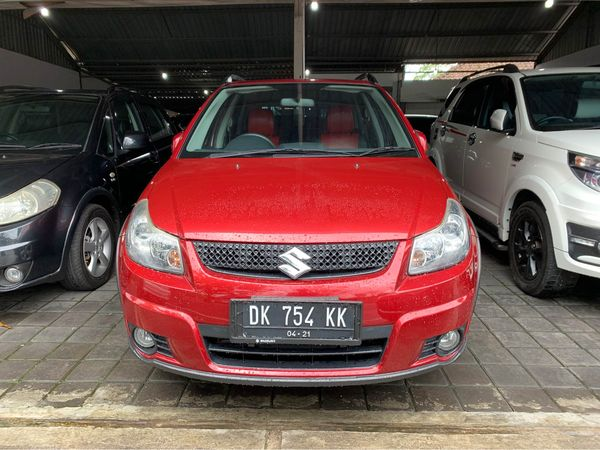plate: (230, 295, 357, 346)
